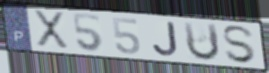5: (71, 11, 106, 54), (111, 16, 143, 56)
J: (151, 21, 180, 58)
S: (221, 25, 258, 65)
U: (181, 21, 222, 63)
X: (32, 8, 71, 51)
